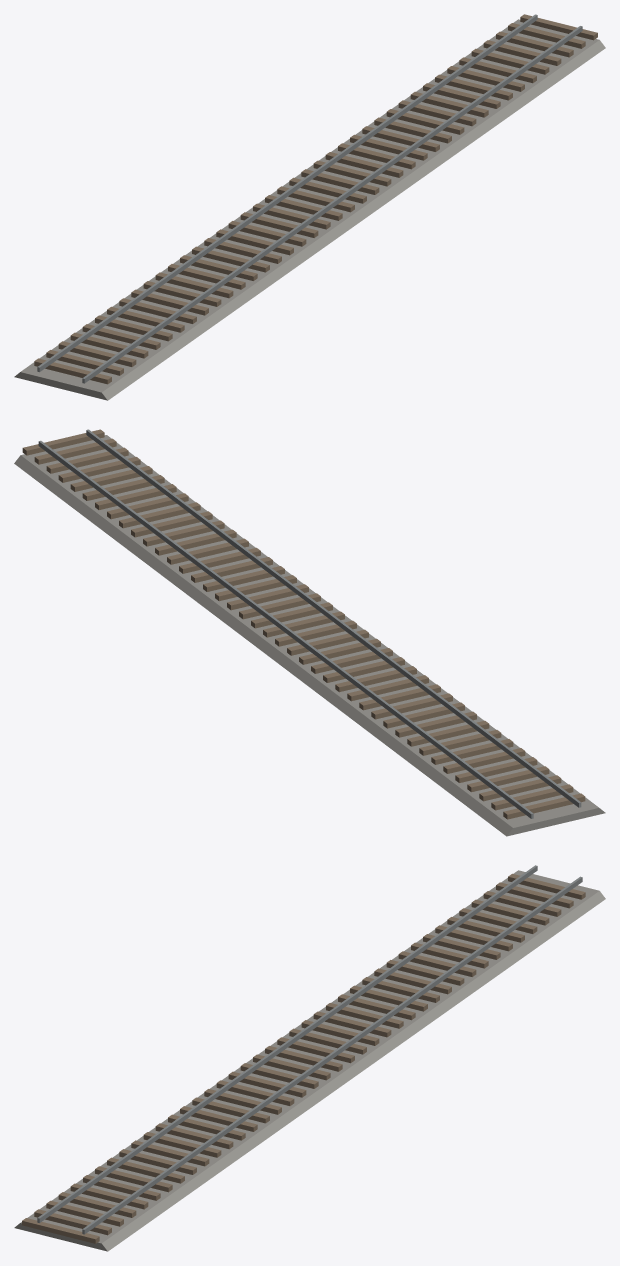
File: rail_01190.glb
3 views of the same model, one above another, from view 1: azimuth 90°, elevation 25°; view 2: azimuth 150°, elevation 25°; view 3: azimuth 270°, elevation 25° (orthographic). The views are drawn at different scales.
Parts seen in each view (by area): view 1: Sleepers, Ballast, Rails; view 2: Sleepers, Ballast, Rails; view 3: Sleepers, Ballast, Rails.
Boxes of the visible parts, x1,y1,x2,y2 form: Sleepers: (34,14,597,384); Ballast: (14,19,605,400); Rails: (37,14,582,383); Sleepers: (22,429,585,819); Ballast: (14,435,605,836); Rails: (38,429,581,818); Sleepers: (22,873,585,1243); Ballast: (14,870,605,1251); Rails: (37,865,582,1234).
Size of the model in its own units: 24.42 by 0.48 by 16.23.
